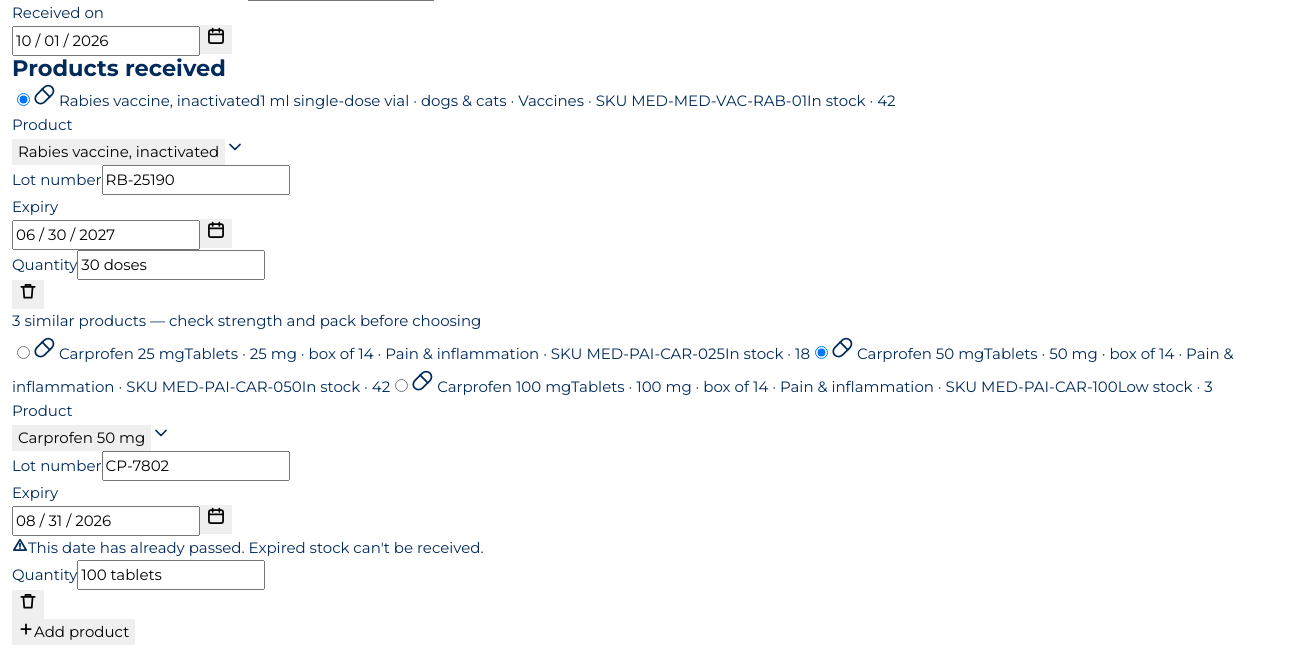
Test case: ReceiveStock › adds a new product line
(page scrolled)
What coordinates should you click on to do the following:
click the button "Add product"
I would click on:
 (74, 632)
Its box is left=12, top=619, right=135, bottom=645.
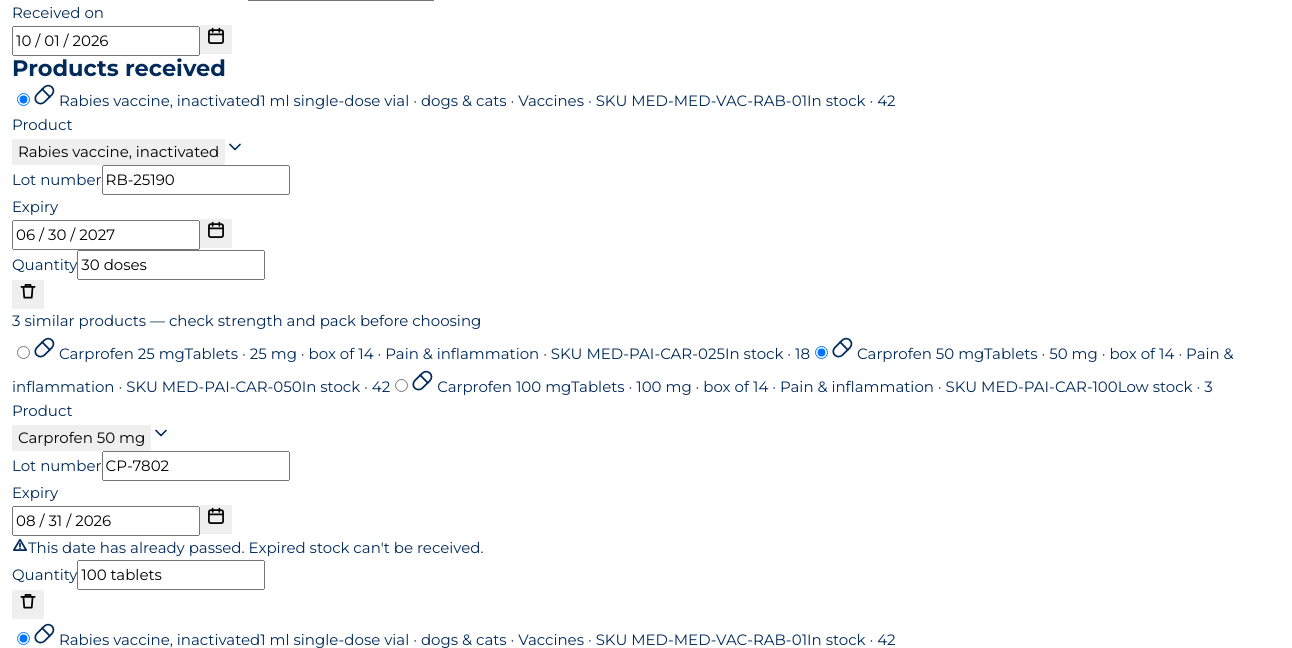
Expected: the number of buttons named "Remove product" is 3
